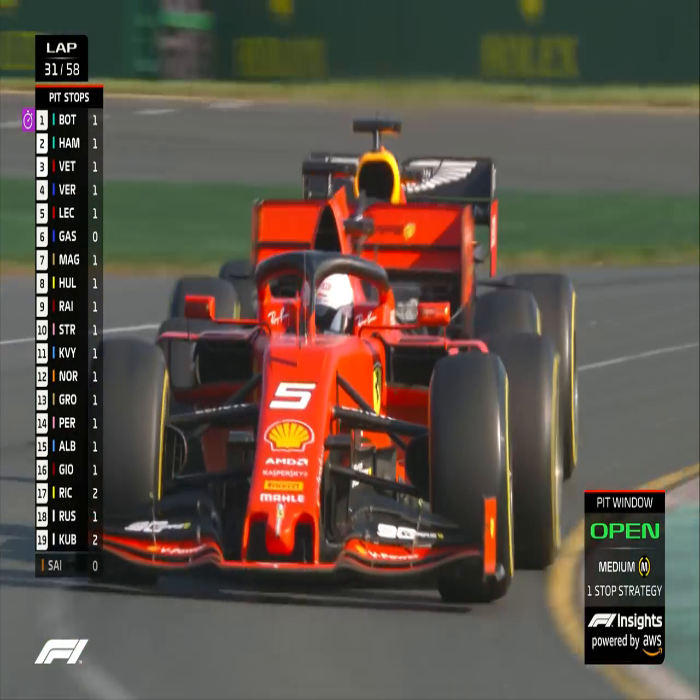f1_car: (104, 239, 575, 626)
